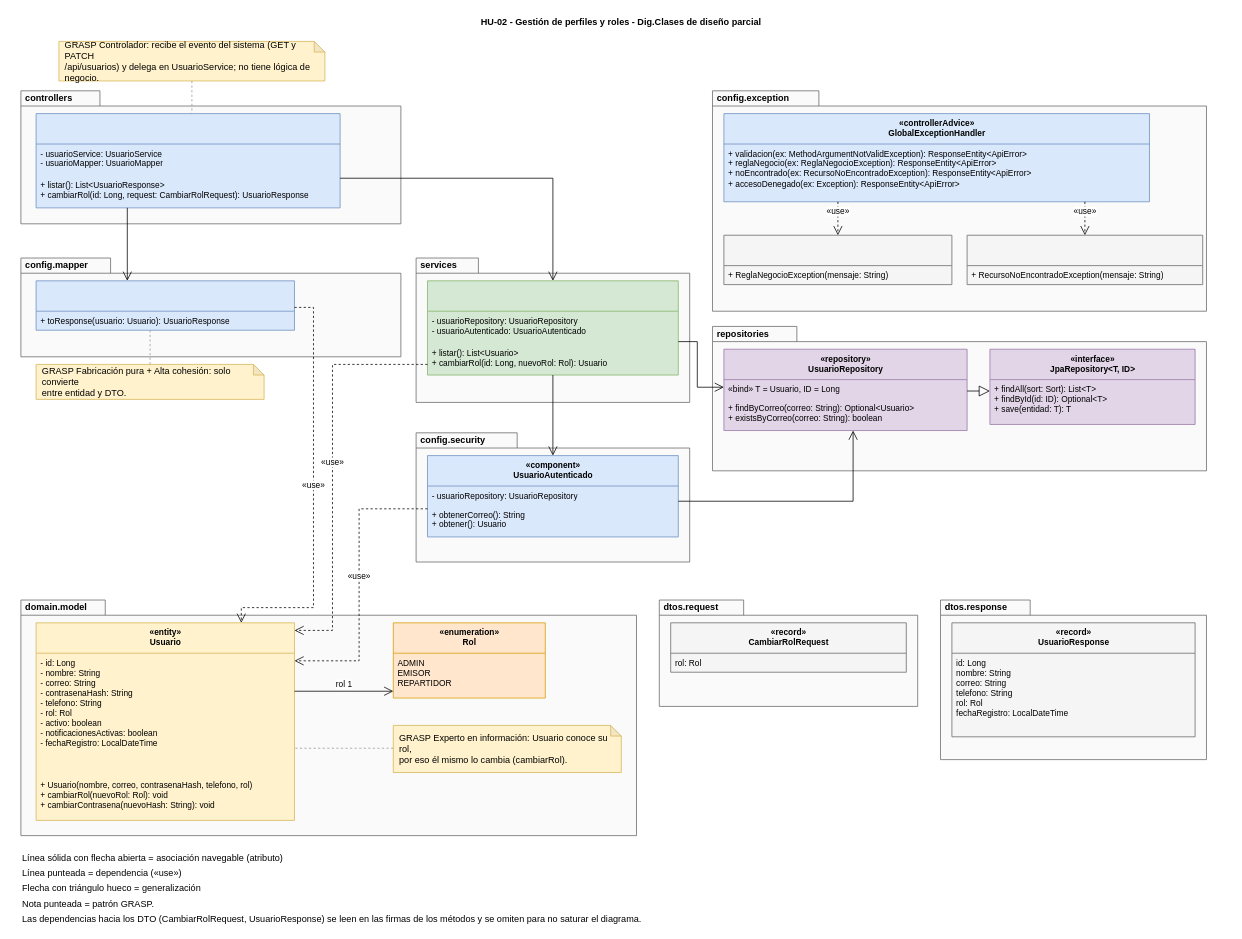
The diagram is 1242 pixels wide and 939 high, and some of its shapes have lost their labels. Each missing label, with the box of its shape:
«controller» UsuarioController: (35, 113, 340, 208)
«exception» RecursoNoEncontradoException: (966, 234, 1203, 285)
«exception» ReglaNegocioException: (723, 234, 952, 285)
«mapper» UsuarioMapper: (35, 280, 294, 330)
«service» UsuarioService: (427, 280, 678, 375)
